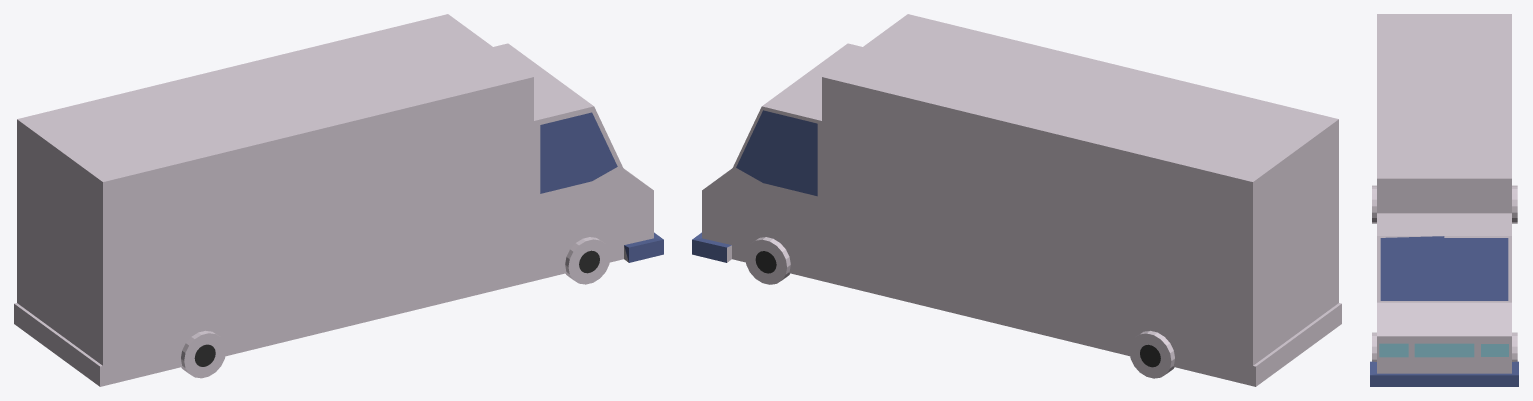
File: truck.glb
3 views of the same model, side by side, from view 1: azimuth 30°, elevation 25°; view 2: azimuth 150°, elevation 25°; view 3: azimuth 270°, elevation 25° (orthographic). The views are drawn at different scales.
Visible parts, largest first — view 1: Car_08_4.003; view 2: Car_08_4.003; view 3: Car_08_4.003.
Boxes of the visible parts, x1,y1,x2,y2 form: Car_08_4.003: (14, 14, 663, 386); Car_08_4.003: (692, 14, 1341, 386); Car_08_4.003: (1370, 14, 1518, 386).
Size of the model in its own units: 1.8 by 0.6663 by 0.5288.
